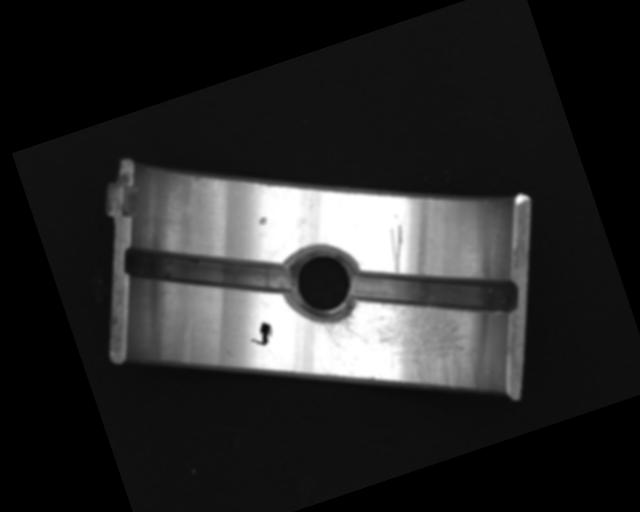blot: (245, 319, 276, 349)
bruise: (256, 215, 269, 227)
gap: (119, 201, 299, 339), (349, 228, 522, 356)
hole: (275, 237, 371, 334)
nick: (381, 221, 417, 275)
scratch: (313, 278, 484, 431)
